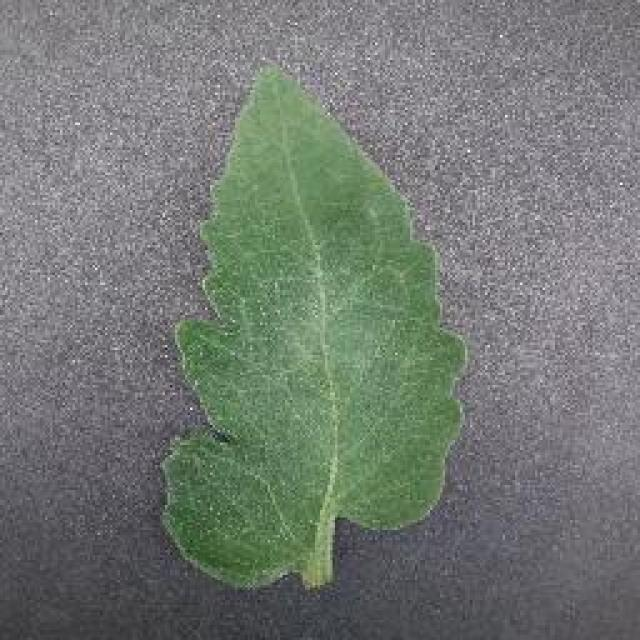healthy: (155, 57, 467, 588)
